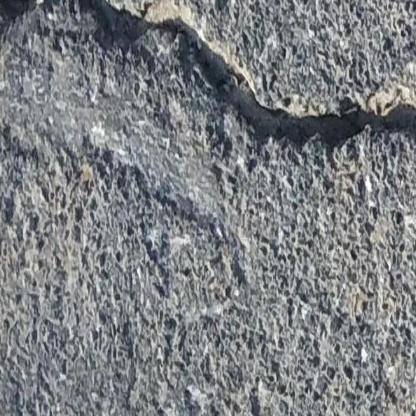Cracks: (0, 0, 416, 155)
